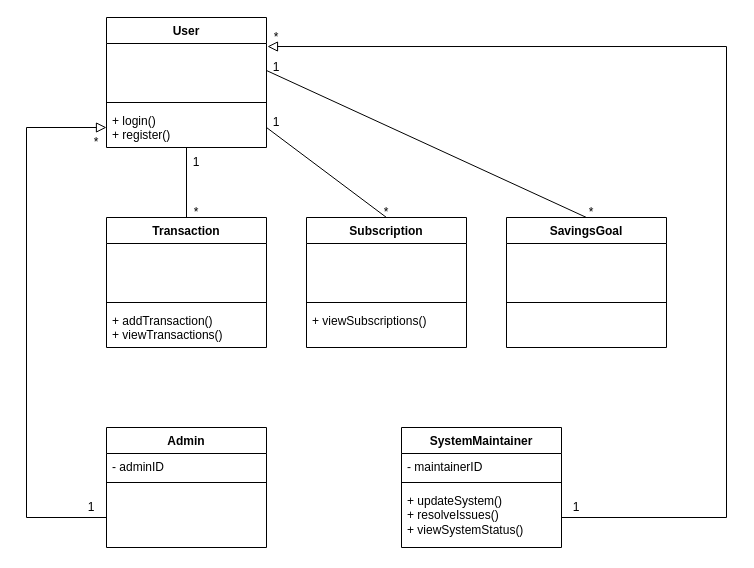
Some shapes in this 754 by 568 pixel diagram are drawn without their labels. Here are the shapes that lost their labels. From the top down, the centre of each, then its label:
(186,70): - userID - email - password
(186,270): - amount - category - date
(386,270): - title - cost - billingDate
(586,270): - targetAmount - currentAmount
(586,327): + viewSavingsGoal()
(186,517): + manageUserAccounts()
